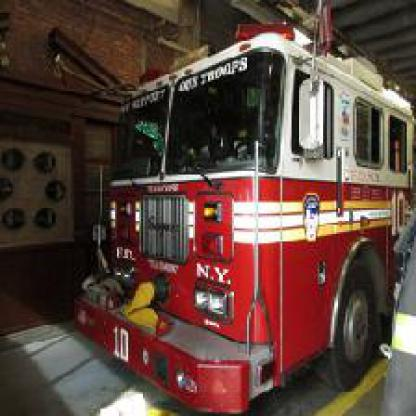emergency: (24, 20, 414, 384)
